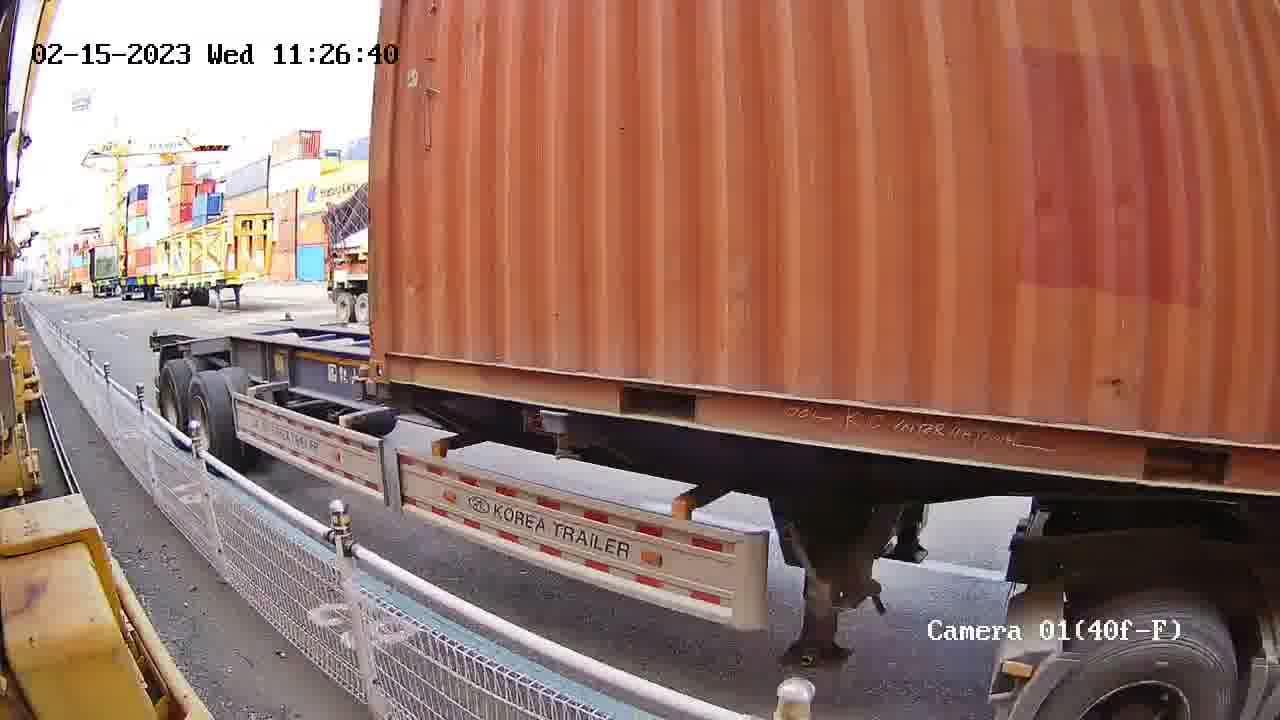Cone: (366, 382, 396, 411)
Hole_L: (368, 331, 425, 388)
Tire: (1035, 627, 1241, 719), (155, 359, 190, 423), (190, 378, 211, 446)
